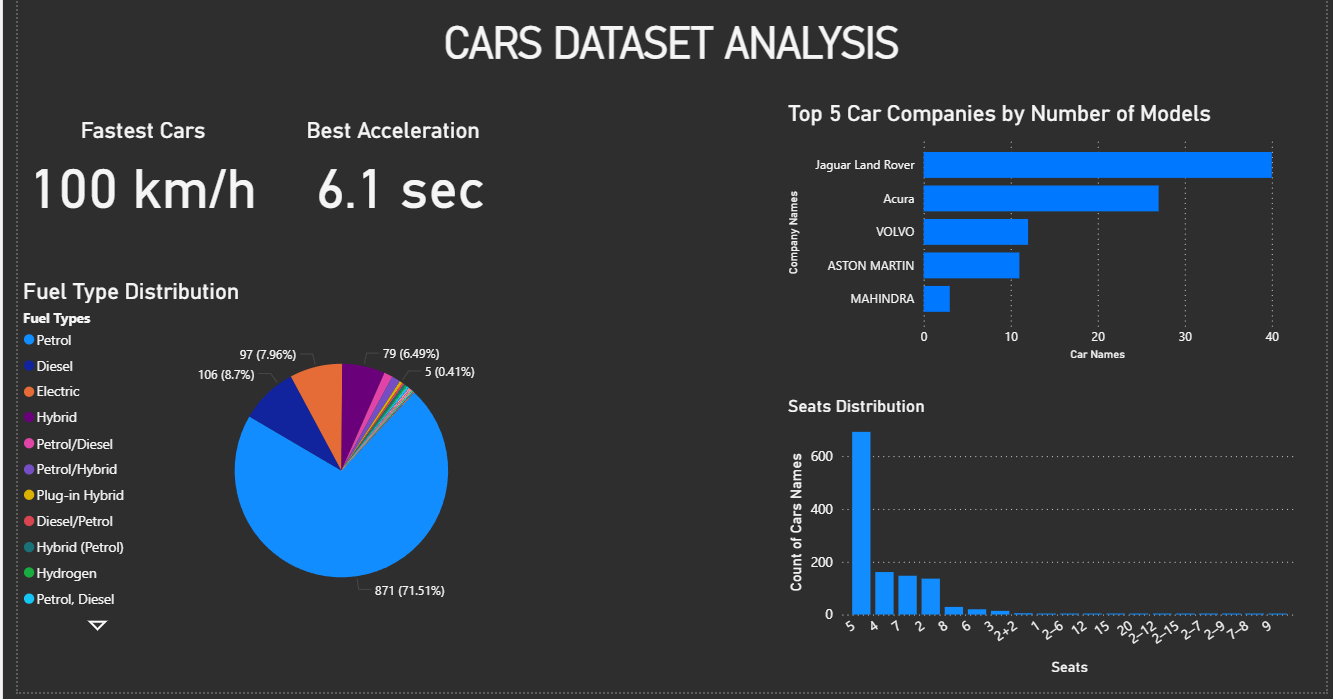

Layout of this report page (visuals, bound fields, positions):
{"tool":"powerbi","page":{"name":"Page 1","canvas":[1280,720],"ordinal":0},"visuals":[{"type":"textbox","box":[426.8,56.3,571.1,73.4],"z":0},{"type":"barChart","title":"Top 5 Car Companies by Number of Models","fields":{"Category":["Cars Datasets 2025.Company Names"],"Y":["CountNonNull(Cars Datasets 2025.Cars Names)"]},"box":[712.7,156.3,507.5,259.2],"z":1000},{"type":"pieChart","title":"Fuel Type Distribution","fields":{"Y":["CountNonNull(Cars Datasets 2025.Cars Names)"],"Category":["Cars Datasets 2025.Fuel Types"]},"box":[51.4,286.1,588.2,420.7],"z":2000},{"type":"card","title":"Fastest Cars","fields":{"Values":["Min(Cars Datasets 2025.Total Speed)"]},"box":[51.4,156.5,244.6,101.5],"z":3000},{"type":"card","title":"Best Acceleration","fields":{"Values":["Min(Cars Datasets 2025.Performance(0 - 100 )KM/H)"]},"box":[395,156.5,244.6,101.5],"z":4000},{"type":"columnChart","title":"Seats Distribution","fields":{"Category":["Cars Datasets 2025.Seats"],"Y":["CountNonNull(Cars Datasets 2025.Cars Names)"]},"box":[712.7,441.2,507.5,278.8],"z":5000},{"type":"image","box":[322.8,46.5,144.3,91.7],"z":6000}]}

Visuals, with their boxes on the page's 1280x720 design canvas (x1, y1, x2, y2). These are canvas units, not pixel positions in the 1333x699 screenshot, which may show the page scaled, cropped or inside an application window:
textbox: [427, 56, 998, 130]
"Top 5 Car Companies by Number of Models" barChart: [713, 156, 1220, 416]
"Fuel Type Distribution" pieChart: [51, 286, 640, 707]
"Fastest Cars" card: [51, 156, 296, 258]
"Best Acceleration" card: [395, 156, 640, 258]
"Seats Distribution" columnChart: [713, 441, 1220, 720]
image: [323, 46, 467, 138]
